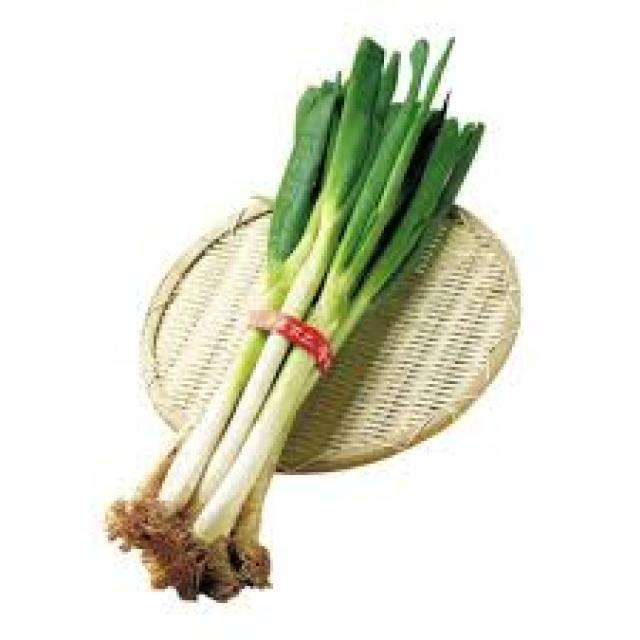spring_onion: (108, 40, 486, 602)
